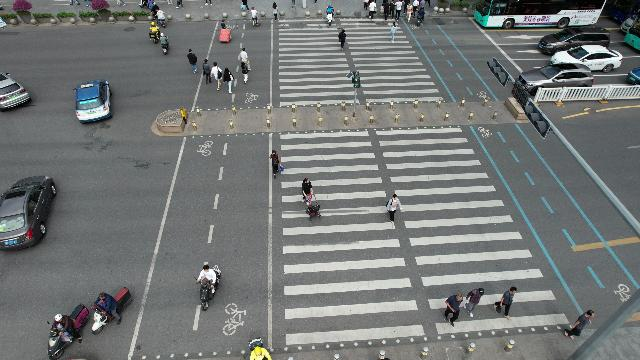non-motor-vehicle: (47, 304, 89, 357), (90, 288, 128, 334), (196, 264, 222, 312), (248, 338, 266, 360), (148, 26, 160, 44), (156, 7, 166, 27), (416, 7, 426, 27), (326, 3, 334, 26), (160, 36, 168, 54), (252, 8, 258, 28), (176, 0, 184, 10)
person: (564, 310, 596, 342), (300, 178, 322, 222), (492, 287, 518, 317), (444, 295, 466, 326), (466, 287, 484, 317), (386, 195, 402, 224), (269, 150, 283, 178), (222, 68, 234, 92), (185, 50, 198, 70), (213, 62, 223, 86), (202, 60, 212, 82), (388, 22, 398, 42), (338, 29, 347, 50), (382, 0, 390, 20), (242, 63, 250, 83), (394, 0, 402, 20), (406, 2, 414, 22), (389, 0, 397, 20), (368, 1, 376, 18), (272, 1, 278, 21), (240, 48, 248, 62), (362, 1, 370, 12), (240, 0, 248, 10), (424, 0, 434, 8), (289, 0, 297, 8), (416, 0, 424, 8), (220, 20, 228, 28)
